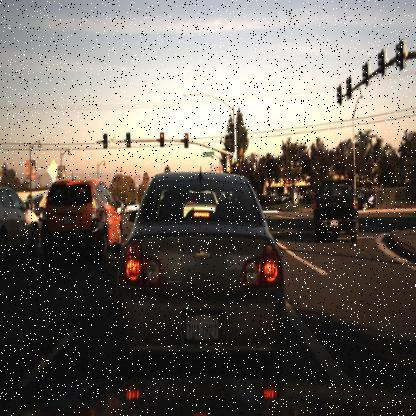car: (119, 172, 285, 369), (39, 174, 120, 268), (314, 177, 370, 248), (0, 192, 38, 262), (123, 198, 139, 216)
trafficLight-GreenLeft: (124, 127, 132, 148), (100, 131, 108, 150)
trafficLight-Red: (182, 132, 191, 151), (233, 160, 240, 178), (159, 131, 165, 149)
